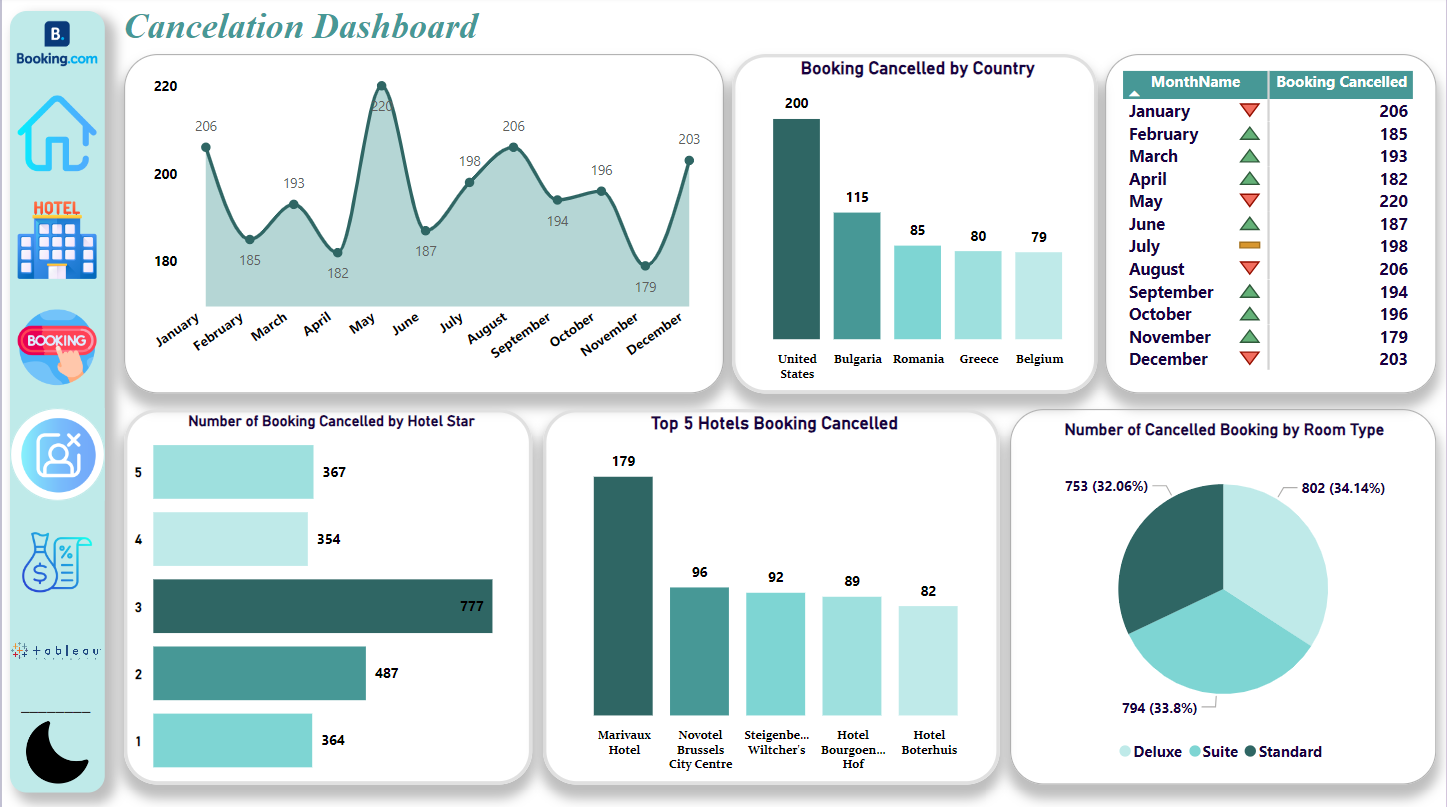

This screenshot's page, from the dashboard's own definition file:
{"tool":"tableau","page":{"name":"Booking Dashboard ","canvas":[1450,830],"ordinal":0},"visuals":[{"type":"image","param":"Image/boas.jpg","box":[8,8,1434,814]},{"type":"text","box":[508,26.4,370,34.2]},{"type":"image","param":"Image/choose.png","box":[91,28.3,47,39.1]},{"type":"text","box":[65,75.2,100,29.3]},{"type":"worksheet","title":"Num Of Completed and Cancelled Booking","mark":"Pie","box":[218,89,374,191]},{"type":"worksheet","title":" Booking with Breakfast Included","mark":"Automatic","rows":["Calculation_673288203220189195","Calculation_673288203220189195"],"box":[597,92,372,186]},{"type":"worksheet","title":"Bookings By Room Type ","mark":"Automatic","rows":["Booking_id_SK","Booking_id_SK"],"cols":["Room Type"],"box":[992,93,427,384]},{"type":"dashboard-object","box":[26,133.8,174,52.7]},{"type":"dashboard-object","box":[27,210.9,174,46.9]},{"type":"dashboard-object","box":[26,284.2,174,46.9]},{"type":"worksheet","title":" Booking with Spa Included","mark":"Automatic","rows":["Calculation_673288203220189195","Calculation_673288203220189195"],"box":[222,291,369,194]},{"type":"worksheet","title":" Booking with Airport Pickup Included","mark":"Automatic","rows":["Calculation_673288203220189195","Calculation_673288203220189195"],"box":[599,292,372,191]},{"type":"dashboard-object","box":[26,357.4,174,46.9]},{"type":"dashboard-object","box":[26,437.5,174,46.9]},{"type":"worksheet","title":"Num Of Bookings By Countries","mark":"Automatic","rows":["Booking_id_SK"],"cols":["Country"],"box":[219,496,1203,310]},{"type":"blank","box":[53,504,123,2]},{"type":"text","box":[80,519,73,34]},{"type":"dashboard-object","box":[71,565,76,39]},{"type":"dashboard-object","box":[122,565,91,39]},{"type":"blank","box":[51,631,123,2]},{"type":"text","box":[47,644,144,25]},{"type":"image","param":"Image/Microsoft-Power-BI-Symbol.png","box":[75,676,77,61]}]}

Visuals, with their boxes in screenshot pixels (x1, y1, x2, y2), scaled from the page's 1450x830 canvas onto the 1447x807 screenshot:
image: select_region(8, 8, 1439, 799)
text: select_region(507, 26, 876, 59)
image: select_region(91, 28, 138, 66)
text: select_region(65, 73, 165, 102)
"Num Of Completed and Cancelled Booking" worksheet (Pie marks): select_region(218, 87, 591, 272)
" Booking with Breakfast Included" worksheet: select_region(596, 89, 967, 270)
"Bookings By Room Type " worksheet: select_region(990, 90, 1416, 464)
dashboard-object: select_region(26, 130, 200, 181)
dashboard-object: select_region(27, 205, 201, 251)
dashboard-object: select_region(26, 276, 200, 322)
" Booking with Spa Included" worksheet: select_region(222, 283, 590, 472)
" Booking with Airport Pickup Included" worksheet: select_region(598, 284, 969, 470)
dashboard-object: select_region(26, 347, 200, 393)
dashboard-object: select_region(26, 425, 200, 471)
"Num Of Bookings By Countries" worksheet: select_region(219, 482, 1419, 784)
blank: select_region(53, 490, 176, 492)
text: select_region(80, 505, 153, 538)
dashboard-object: select_region(71, 549, 147, 587)
dashboard-object: select_region(122, 549, 213, 587)
blank: select_region(51, 614, 174, 615)
text: select_region(47, 626, 191, 650)
image: select_region(75, 657, 152, 717)
